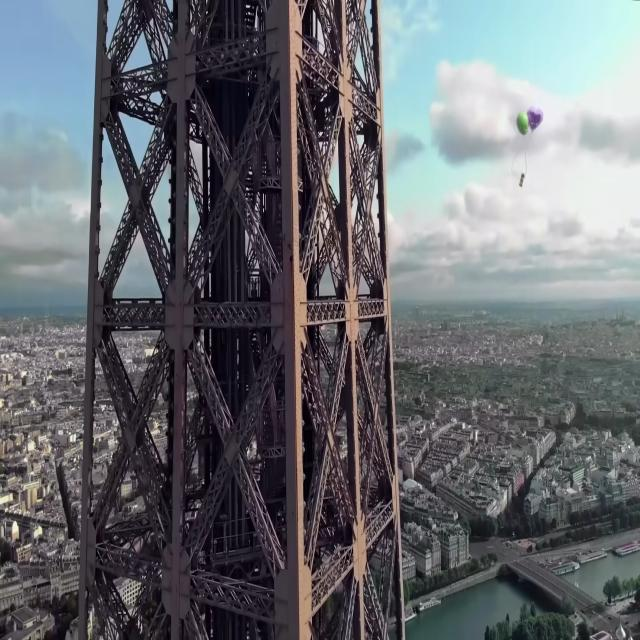balloon: (514, 112, 530, 134), (528, 108, 546, 127)
